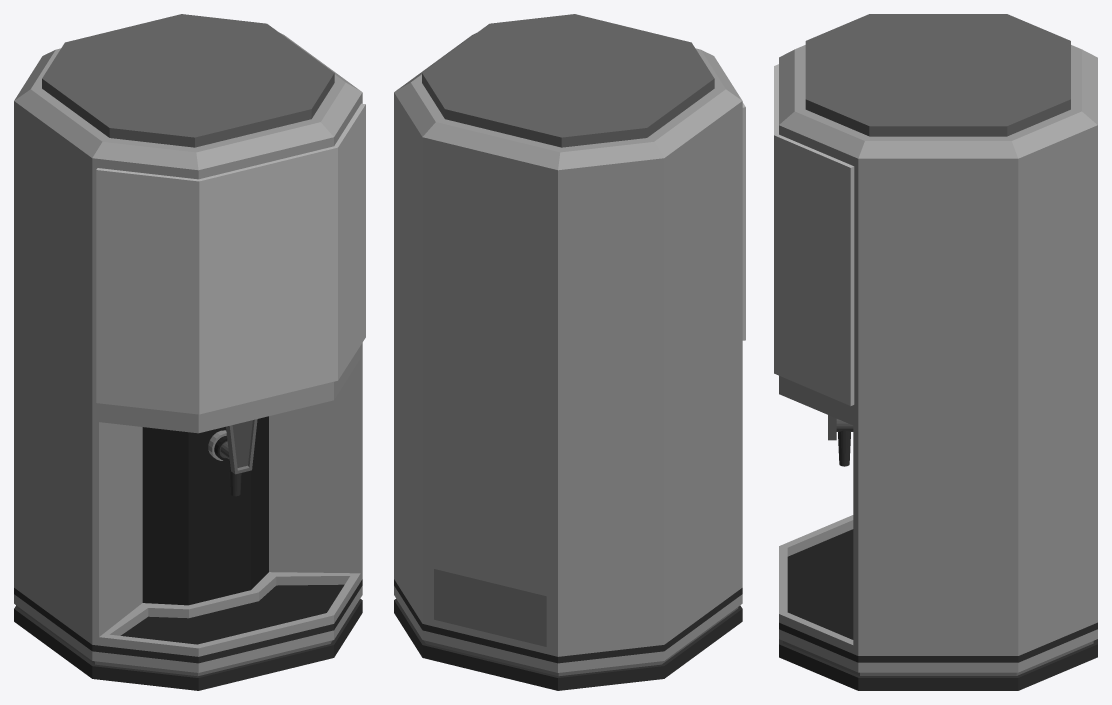
Rendered from Coffee Machine Single.fbx.
3 renders of one model, left to right at view 1: azimuth 30°, elevation 25°; view 2: azimuth 150°, elevation 25°; view 3: azimuth 270°, elevation 25°, orthographic. The views are drawn at different scales.
Visible parts, largest first — view 1: Coffee Machine Single; view 2: Coffee Machine Single; view 3: Coffee Machine Single.
Boxes of the visible parts, x1=… form: Coffee Machine Single: x1=14, y1=14, x2=365, y2=690; Coffee Machine Single: x1=394, y1=14, x2=745, y2=690; Coffee Machine Single: x1=774, y1=14, x2=1097, y2=690.
Size of the model in its own units: 43.97 by 84.19 by 44.62.
Materials: 2 (2 with a texture image).
